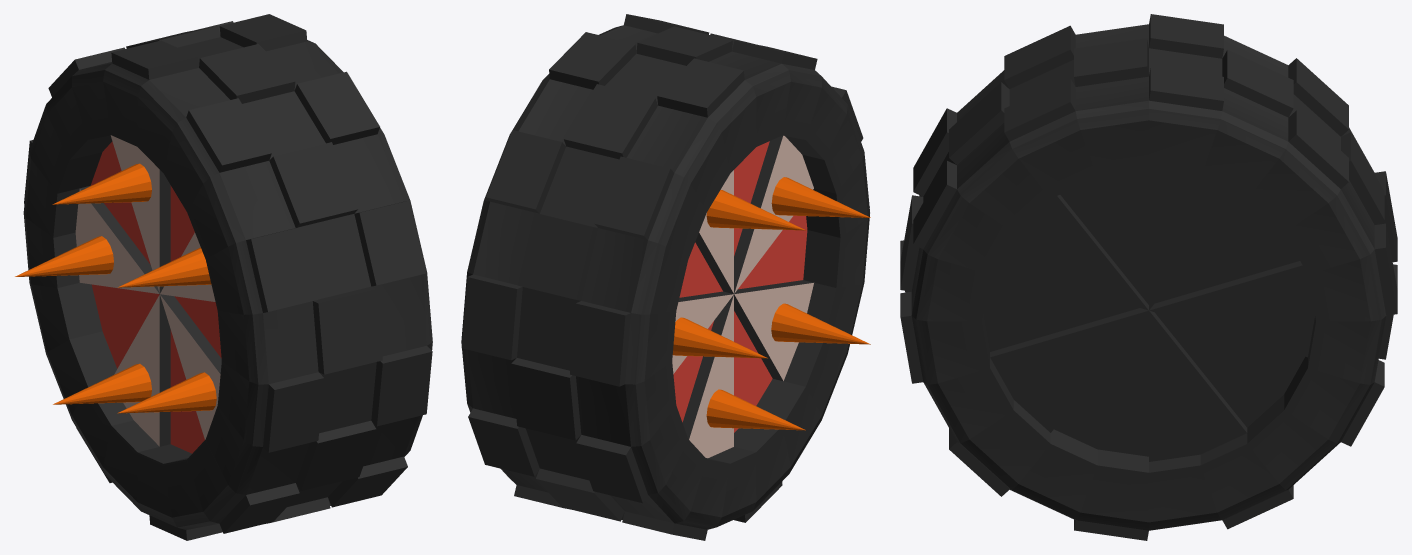
File: tocak srednji.fbx
3 renders of one model, left to right at view 1: azimuth 30°, elevation 25°; view 2: azimuth 150°, elevation 25°; view 3: azimuth 270°, elevation 25°, orthographic.
Visible parts, largest first — view 1: Wheel.003; view 2: Wheel.003; view 3: Wheel.003.
Part boxes in pixels (x1,y1,x2,y2): Wheel.003: [15, 14, 432, 540]; Wheel.003: [461, 14, 870, 540]; Wheel.003: [900, 14, 1397, 540].
Bounding box in the file's own units: 75.37 × 131 × 131.
